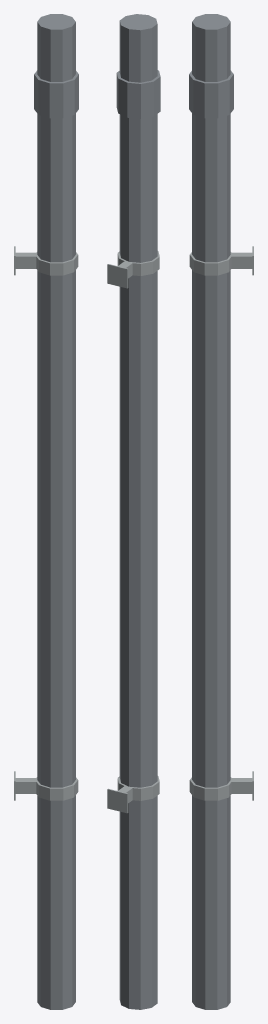
File: SC_Bld_Villa_Downspout_Run.gltf
3 renders of one model, left to right at view 1: azimuth 90°, elevation 25°; view 2: azimuth 150°, elevation 25°; view 3: azimuth 270°, elevation 25°, orthographic.
Visible parts, largest first — view 1: SC_Bld_Villa_Downspout_Run; view 2: SC_Bld_Villa_Downspout_Run; view 3: SC_Bld_Villa_Downspout_Run.
Boxes of the visible parts, x1,y1,x2,y2 form: SC_Bld_Villa_Downspout_Run: (14,14,78,1009); SC_Bld_Villa_Downspout_Run: (107,14,160,1009); SC_Bld_Villa_Downspout_Run: (189,14,253,1009).
Size of the model in its own units: 0.1103 by 2.8 by 0.168.
1 material, 1 textured.
